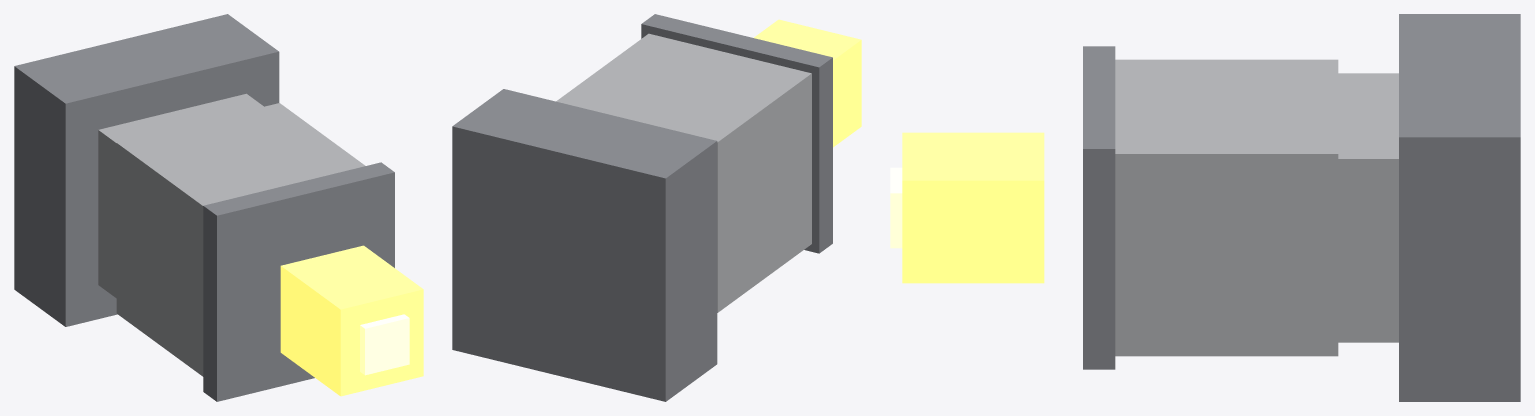
File: rocket_engine.glb
3 views of the same model, side by side, from view 1: azimuth 30°, elevation 25°; view 2: azimuth 150°, elevation 25°; view 3: azimuth 270°, elevation 25° (orthographic). The views are drawn at different scales.
Visible parts, largest first — view 1: Mount, Bell, Lip, FlameOut, Throat, FlameIn; view 2: Mount, Bell, Lip, FlameOut; view 3: Bell, Mount, FlameOut, Throat, Lip, FlameIn.
Boxes of the visible parts, x1,y1,x2,y2 form: Mount: (14, 14, 279, 326); Bell: (116, 103, 365, 376); Lip: (203, 162, 394, 401); FlameOut: (280, 245, 423, 396); Throat: (98, 93, 263, 298); FlameIn: (360, 314, 409, 375); Mount: (452, 89, 717, 401); Bell: (556, 33, 811, 312); Lip: (641, 14, 832, 253); FlameOut: (754, 19, 861, 147); Bell: (1115, 59, 1338, 356); Mount: (1399, 14, 1520, 401); FlameOut: (902, 132, 1044, 283); Throat: (1338, 73, 1398, 342); Lip: (1083, 46, 1115, 369); FlameIn: (890, 167, 902, 248).
Bounding box in the file's own units: 0.72 × 0.72 × 1.55.
